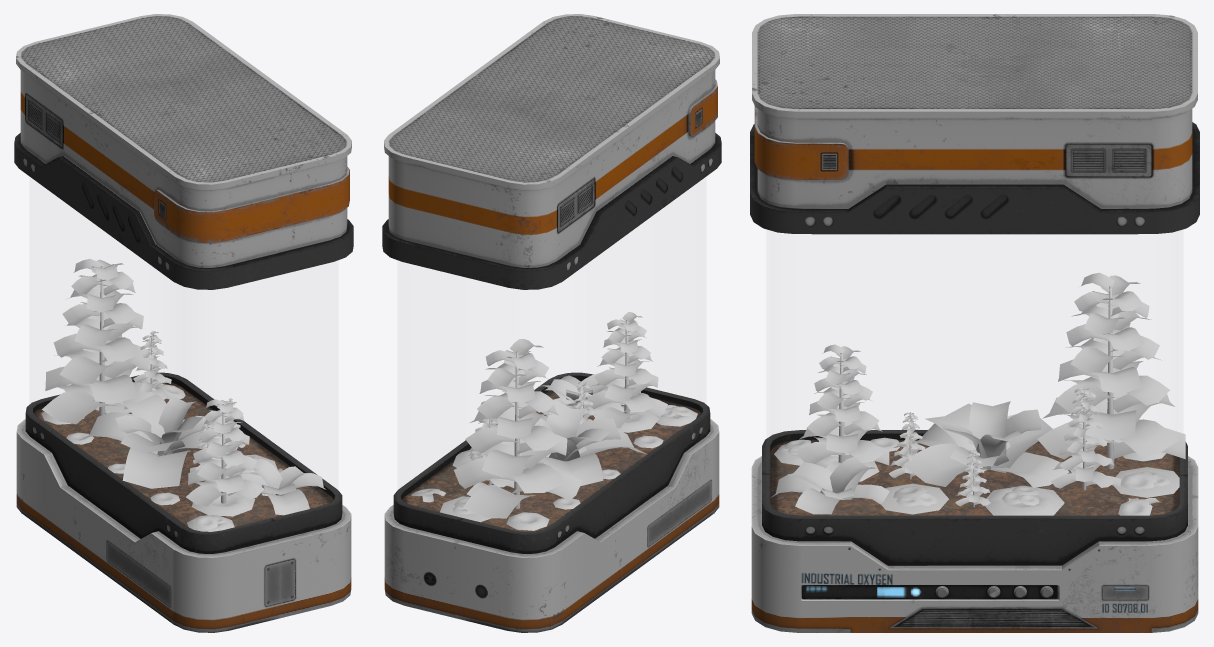
File: BioVat.fbx
3 renders of one model, left to right at view 1: azimuth 30°, elevation 25°; view 2: azimuth 150°, elevation 25°; view 3: azimuth 270°, elevation 25°, orthographic. The views are drawn at different scales.
Parts seen in each view (by area): view 1: BioVat_low, Plants; view 2: BioVat_low, Plants; view 3: BioVat_low, Plants.
Part boxes in pixels (x1=…): BioVat_low: x1=14, y1=14, x2=353, y2=632; Plants: x1=41, y1=258, x2=325, y2=531; BioVat_low: x1=382, y1=14, x2=721, y2=632; Plants: x1=411, y1=312, x2=697, y2=530; BioVat_low: x1=750, y1=14, x2=1199, y2=632; Plants: x1=771, y1=272, x2=1185, y2=515.
Size of the model in its own units: 2.58 by 6.3 by 4.93.
